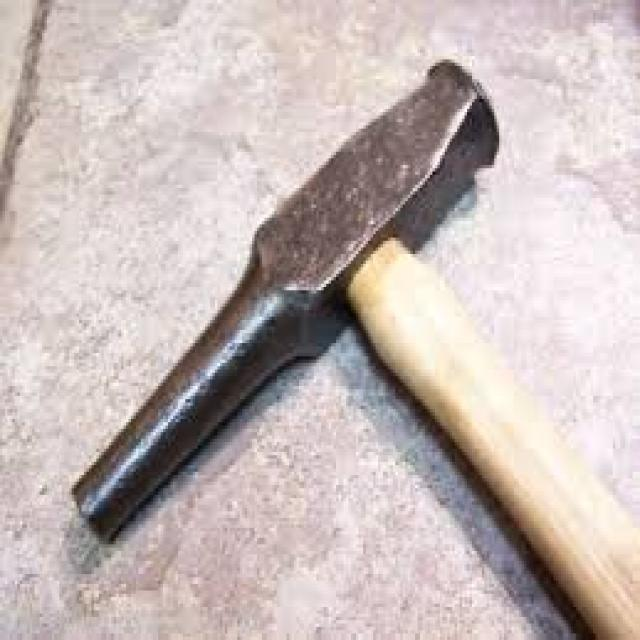hammer: (64, 53, 640, 640)
